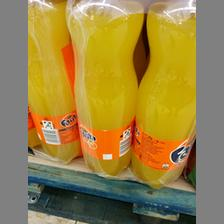Soda: (64, 0, 144, 174), (130, 0, 194, 190), (28, 0, 80, 162)
